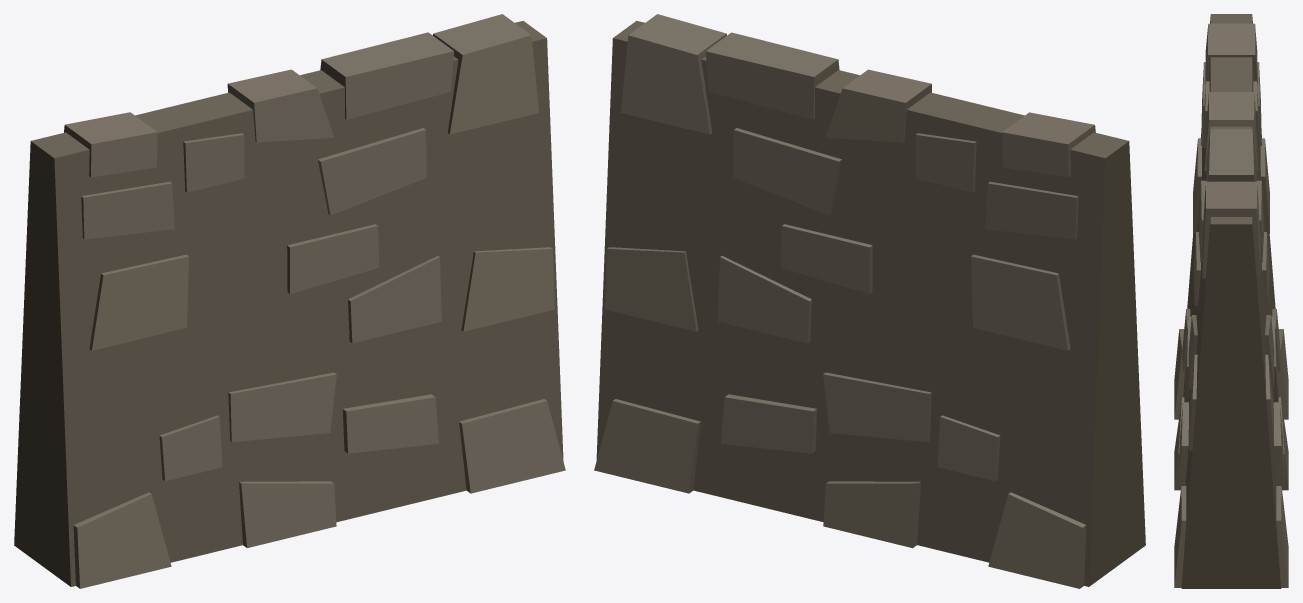
Rendered from Fence_Stone_02.gltf.
The picture shows the model from 3 angles, left to right: view 1: azimuth 30°, elevation 25°; view 2: azimuth 150°, elevation 25°; view 3: azimuth 270°, elevation 25°; orthographic projection. The views are drawn at different scales.
Parts seen in each view (by area): view 1: SF_Prop_Fence_Stone_02; view 2: SF_Prop_Fence_Stone_02; view 3: SF_Prop_Fence_Stone_02.
Part boxes in pixels (box(x1,y1,x2,y2)): SF_Prop_Fence_Stone_02: box(14, 14, 565, 588); SF_Prop_Fence_Stone_02: box(594, 14, 1145, 588); SF_Prop_Fence_Stone_02: box(1174, 14, 1288, 588).
Bounding box in the file's own units: 0.05 × 0.0414 × 0.0115.
1 material, 1 textured.
